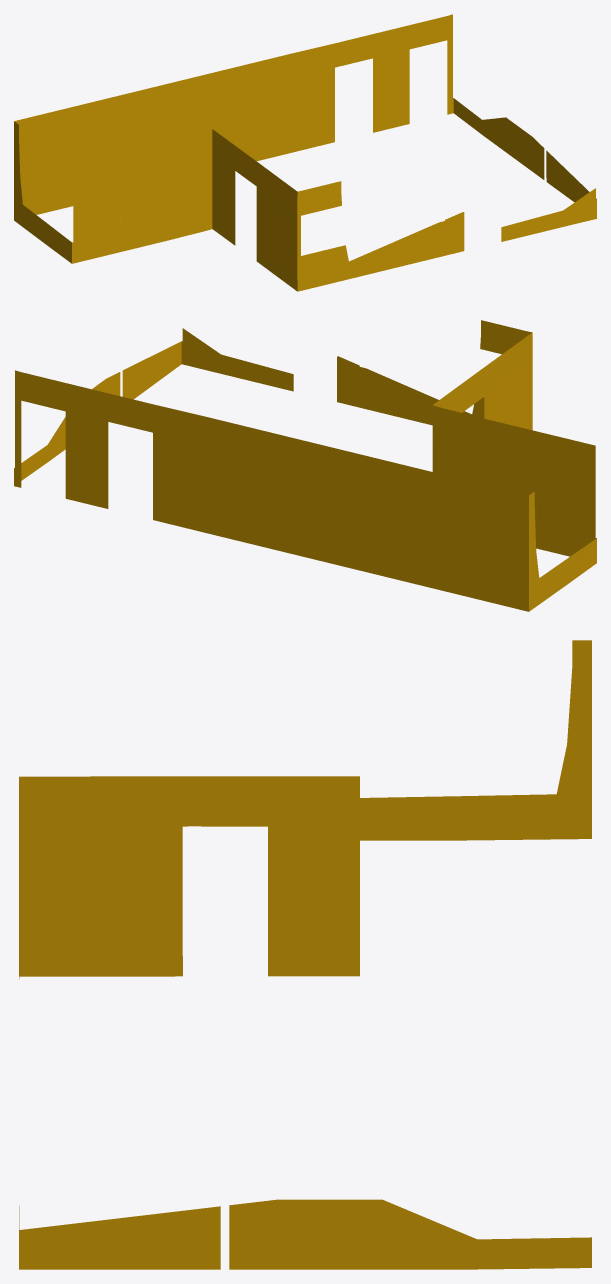
The model's file is BH07B_WP_01_Break.fbx.
3 views of the same model, one above another, from view 1: azimuth 30°, elevation 25°; view 2: azimuth 150°, elevation 25°; view 3: azimuth 270°, elevation 25° (orthographic). The views are drawn at different scales.
Parts seen in each view (by area): view 1: BH07B_WP_01_Break; view 2: BH07B_WP_01_Break; view 3: BH07B_WP_01_Break.
Boxes of the visible parts, x1,y1,x2,y2 form: BH07B_WP_01_Break: (14, 14, 596, 291); BH07B_WP_01_Break: (14, 320, 596, 611); BH07B_WP_01_Break: (19, 640, 591, 1269).
Size of the model in its own units: 1379 by 302 by 779.
